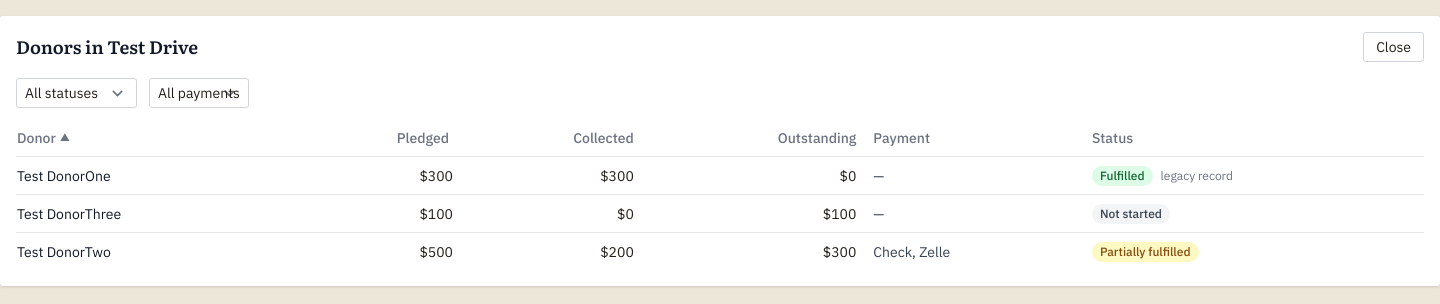
Test: filtering › says how many rows a filter is hiding
Expected: the text "Test DonorOne" is shown, 16,156 -> 298,194
Select "Not started" in the dropdown named "status" at (76, 93), box 16,78 -> 137,108
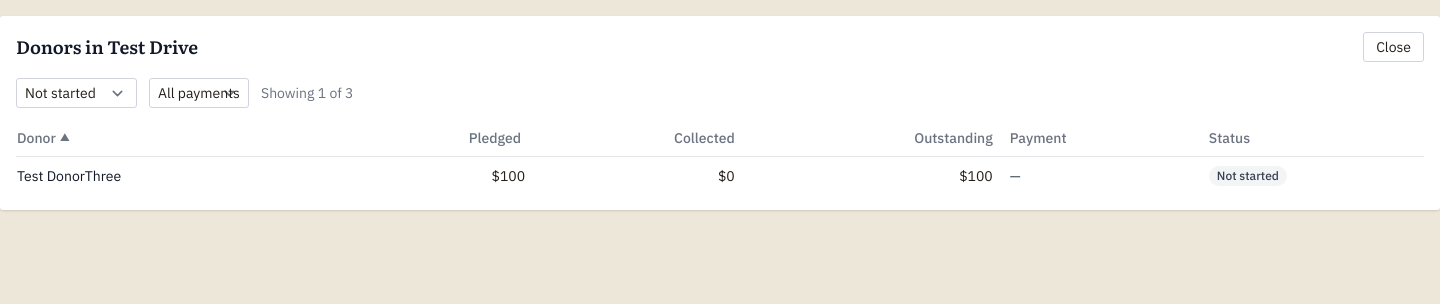
Expected: the text "Showing 1 of 3" is shown, 261,83 -> 354,103
